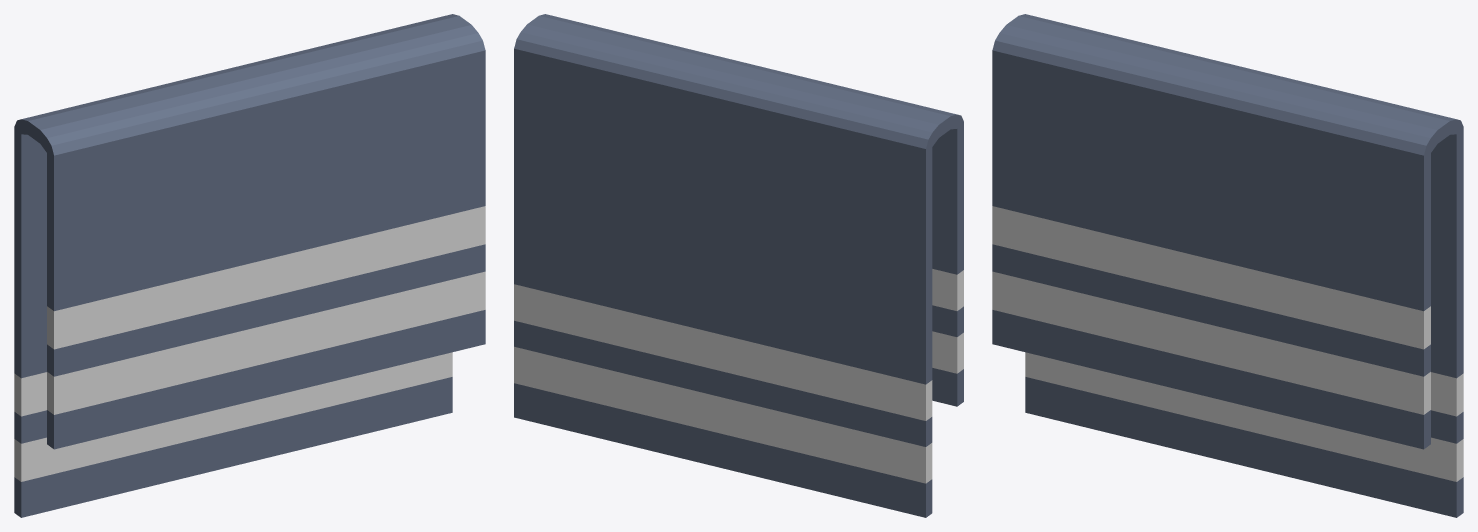
The model's file is Towel_02.fbx.
The picture shows the model from 3 angles, left to right: view 1: azimuth 30°, elevation 25°; view 2: azimuth 150°, elevation 25°; view 3: azimuth 330°, elevation 25°; orthographic projection. The views are drawn at different scales.
Parts seen in each view (by area): view 1: Towel_02; view 2: Towel_02; view 3: Towel_02.
Boxes of the visible parts, x1,y1,x2,y2 form: Towel_02: (14, 14, 485, 517); Towel_02: (514, 14, 963, 517); Towel_02: (992, 14, 1463, 517).
Bounding box in the file's own units: 35.79 × 31.86 × 5.7.
